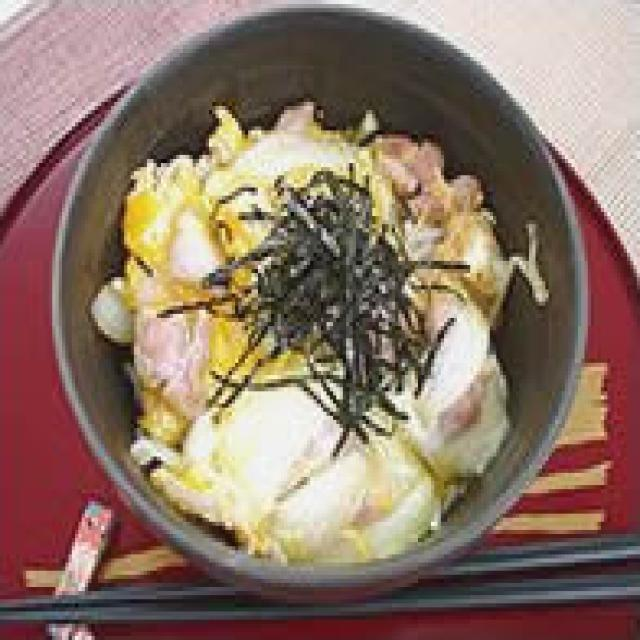米饭主食: (39, 0, 588, 599)
